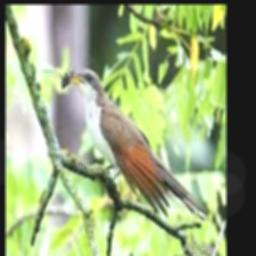Cuckoo: (69, 69, 209, 221)
